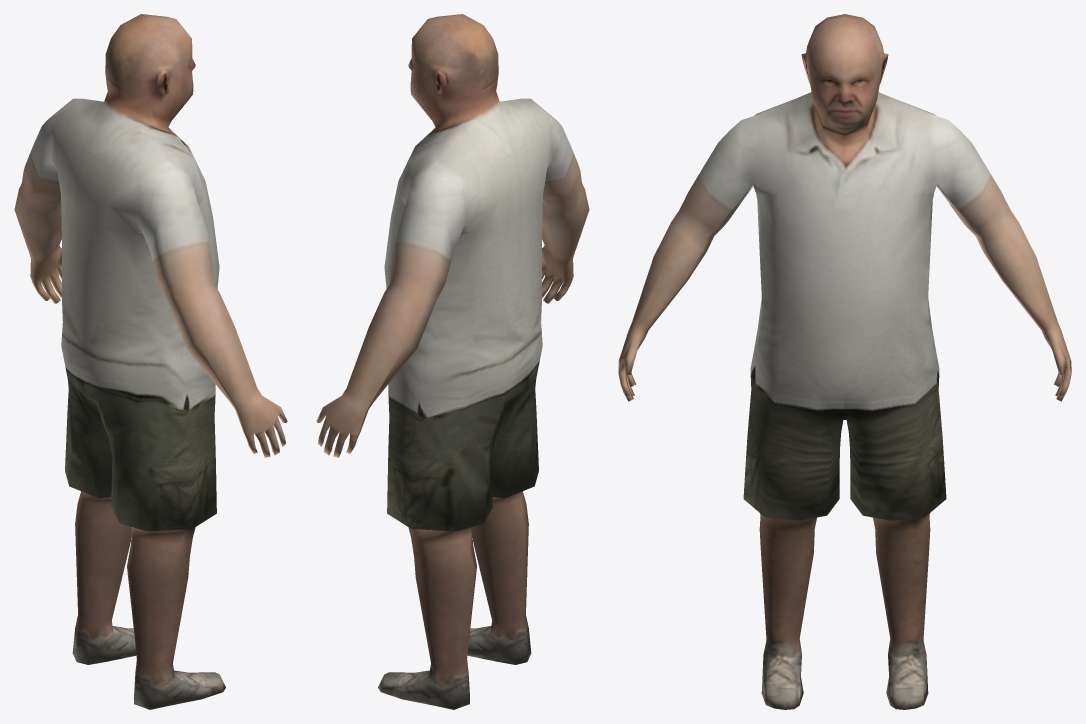
Rendered from Character_Male_49.fbx.
The picture shows the model from 3 angles, left to right: view 1: azimuth 30°, elevation 25°; view 2: azimuth 150°, elevation 25°; view 3: azimuth 270°, elevation 25°; orthographic projection. The views are drawn at different scales.
Visible parts, largest first — view 1: Character_Male_49; view 2: Character_Male_49; view 3: Character_Male_49.
Part boxes in pixels (x1,y1,x2,y2): Character_Male_49: [14, 14, 287, 709]; Character_Male_49: [316, 14, 589, 709]; Character_Male_49: [618, 14, 1071, 709].
Size of the model in its own units: 0.3511 by 1.71 by 1.05.
